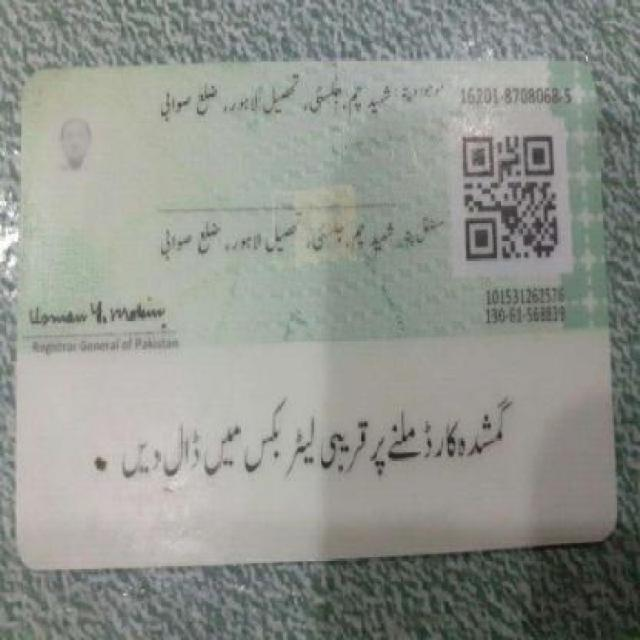Back: (17, 60, 620, 552)
